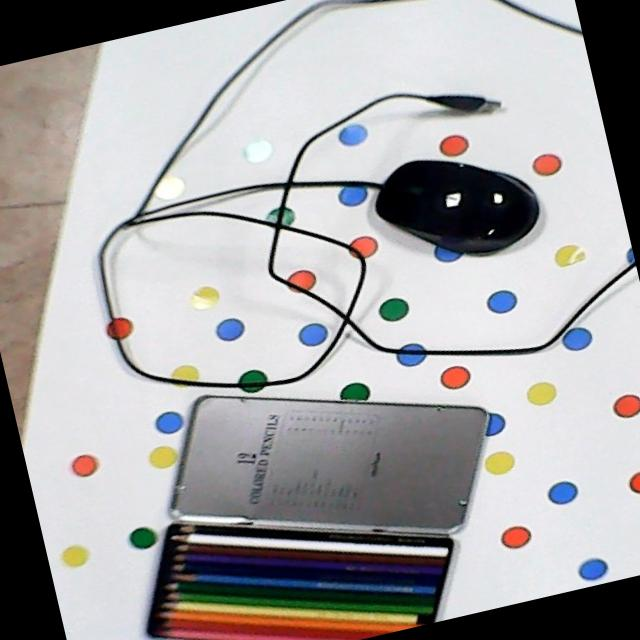color: (132, 515, 462, 640)
mouse: (362, 155, 546, 264)
